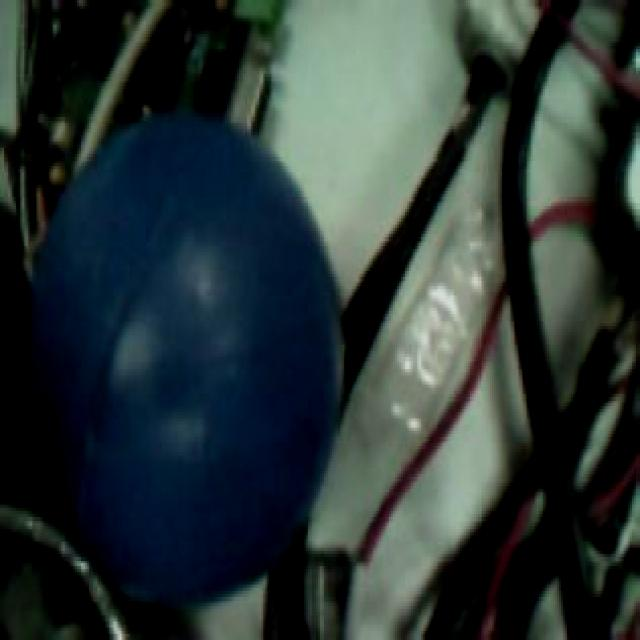BallPurple: (28, 114, 344, 613)
